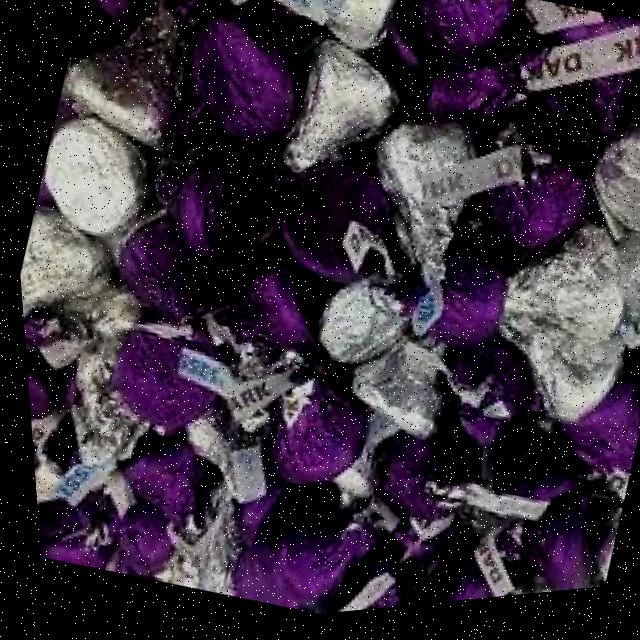kisses: (303, 74, 537, 368), (472, 211, 640, 404)
